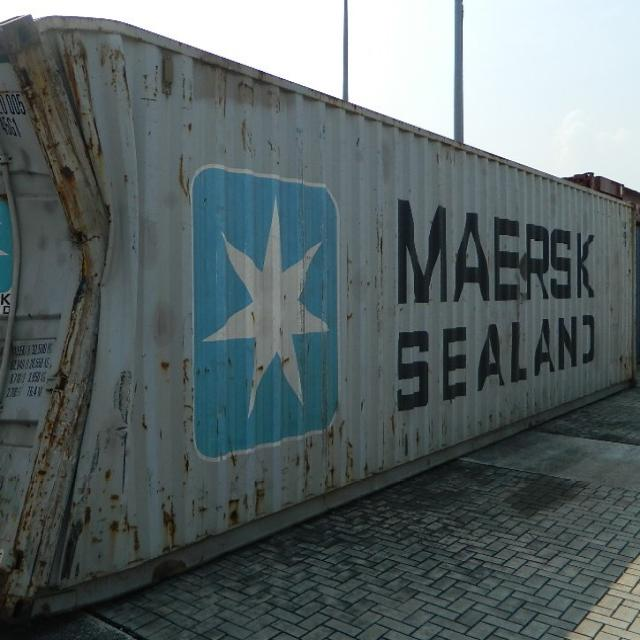dent: (1, 3, 150, 622)
